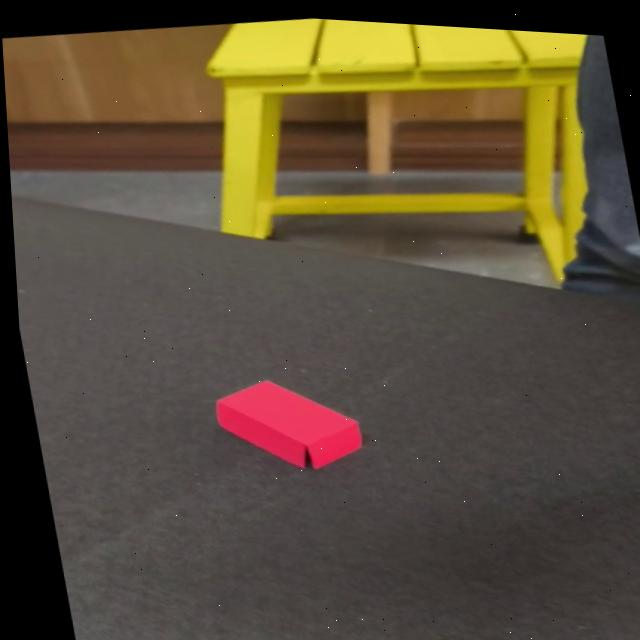red block: (207, 363, 369, 481)
